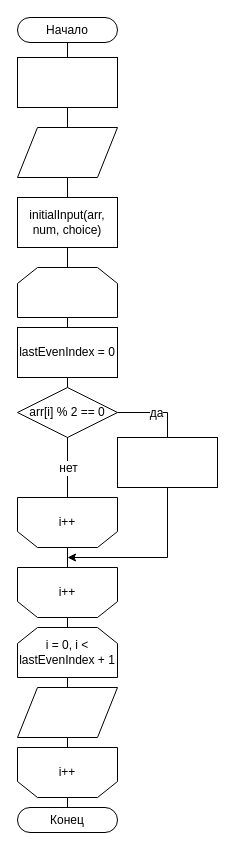
The diagram is 235 pixels wide and 850 high, and some of its shapes have lost their labels. The shapes that lost their labels are listed below. From the top down, each one's centre as x and y in pixels, then its label:
At [67,82]: "arr[100], num, choice".
At [67,152]: "num".
At [67,292]: "i = n-1, i >= 0".
At [167,462]: "lastEvenIndex = i".
At [67,712]: "arr[i]".
